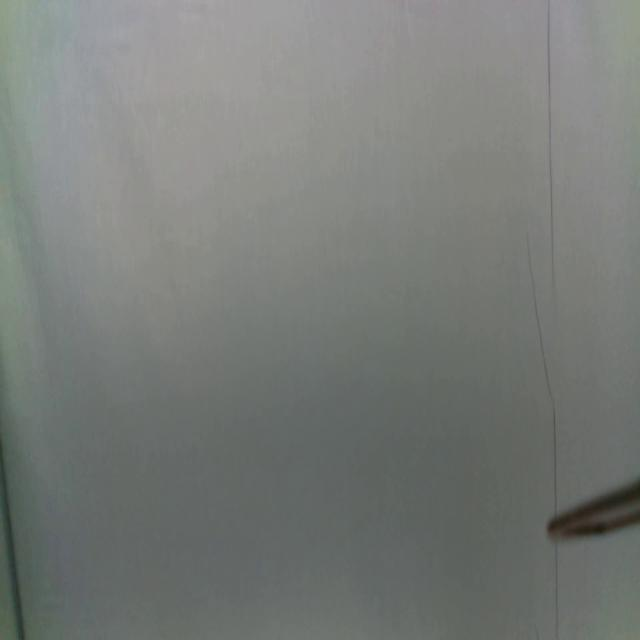crease: (0, 438, 26, 637), (522, 235, 550, 387), (545, 0, 558, 281), (550, 403, 560, 512), (552, 539, 561, 640)
